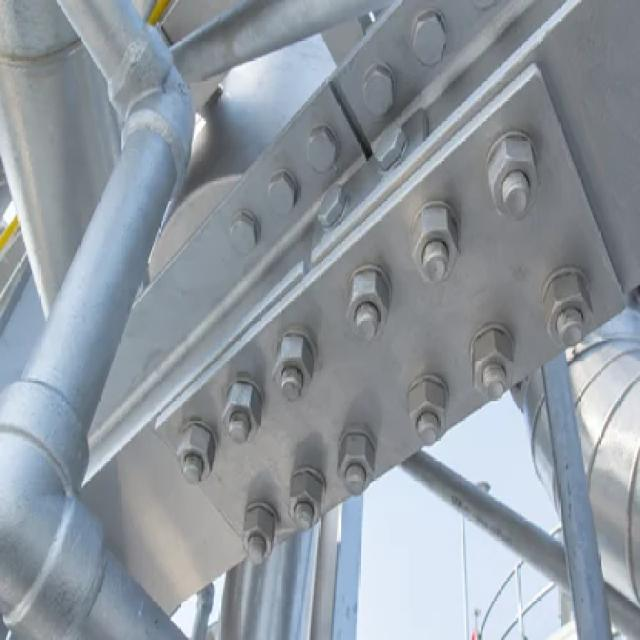Regular bolt: (483, 135, 543, 228), (408, 206, 461, 286), (213, 377, 269, 449), (343, 259, 388, 343), (542, 274, 590, 352), (471, 324, 515, 402), (405, 375, 452, 448), (273, 330, 318, 404), (337, 430, 379, 500), (285, 464, 322, 534), (179, 421, 217, 487), (241, 505, 273, 567)
